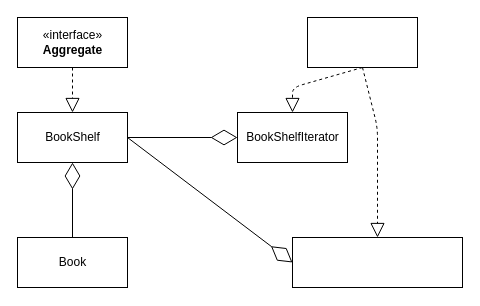
The diagram is 480 pixels wide and 306 high, and some of its shapes have lost their labels. Each missing label, with the centre of its shape:
BookShelfIteratorBackward: the point at 377,262
«interface» Iterator: the point at 362,42
